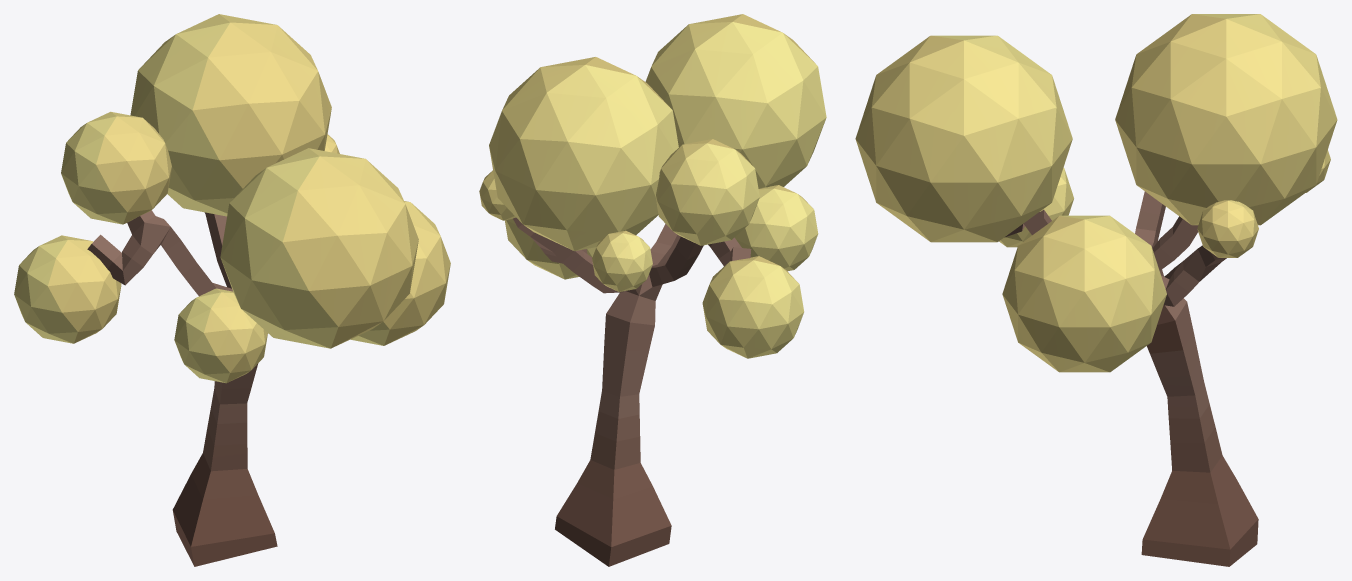
File: arvores amarela.fbx
3 renders of one model, left to right at view 1: azimuth 30°, elevation 25°; view 2: azimuth 150°, elevation 25°; view 3: azimuth 270°, elevation 25°, orthographic. The views are drawn at different scales.
Parts seen in each view (by area): view 1: folha9.001; view 2: folha9.001; view 3: folha9.001.
Boxes of the visible parts, box(x1,y1,x2,y2) form: folha9.001: box(14, 14, 450, 566); folha9.001: box(479, 14, 826, 566); folha9.001: box(855, 14, 1337, 566).
Size of the model in its own units: 569 by 775 by 620.
Materials: 9 (9 with a texture image).
